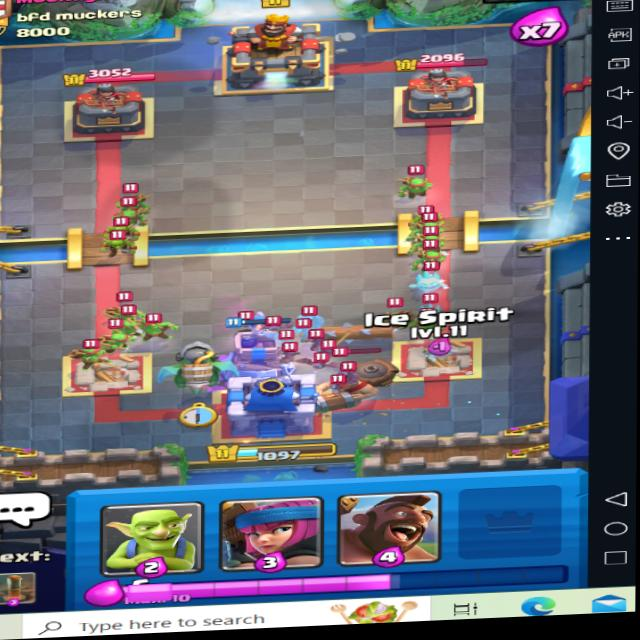bats: (278, 343, 325, 365), (301, 324, 337, 347), (302, 349, 337, 371), (320, 367, 348, 391)
goblin: (100, 232, 142, 260)
mighty-miner: (314, 338, 400, 418)
spear-goblin: (390, 165, 433, 200), (111, 293, 153, 321), (407, 245, 446, 270), (136, 314, 175, 338), (76, 340, 110, 367), (95, 325, 130, 349), (113, 203, 147, 227)
